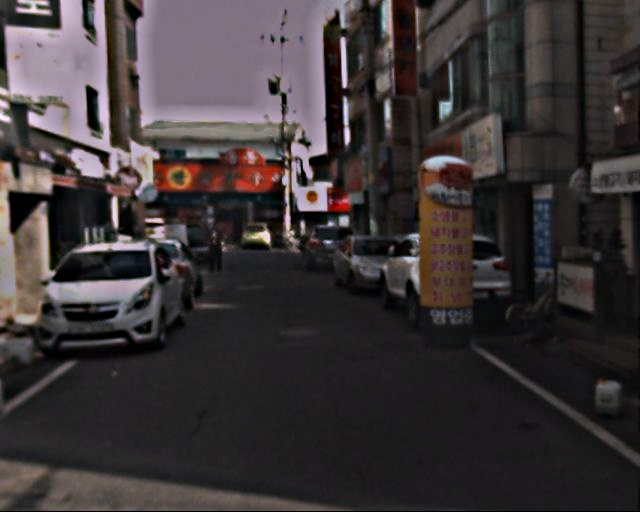person: (205, 221, 227, 275)
